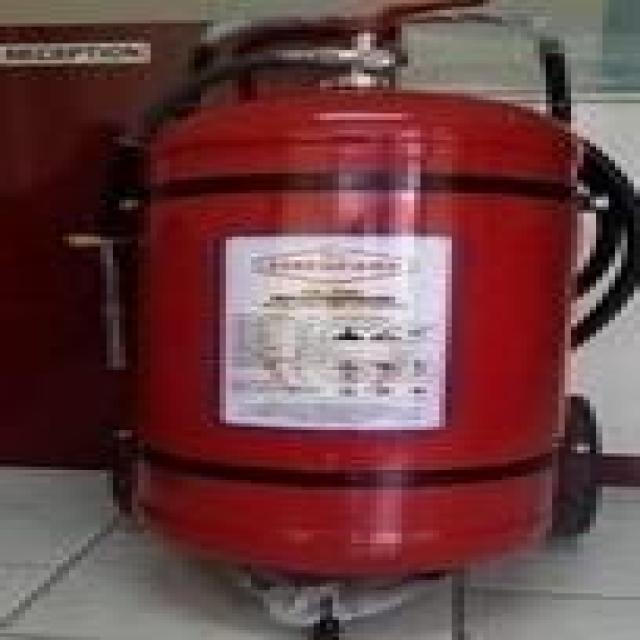fire_extinguisher: (94, 0, 634, 577)
